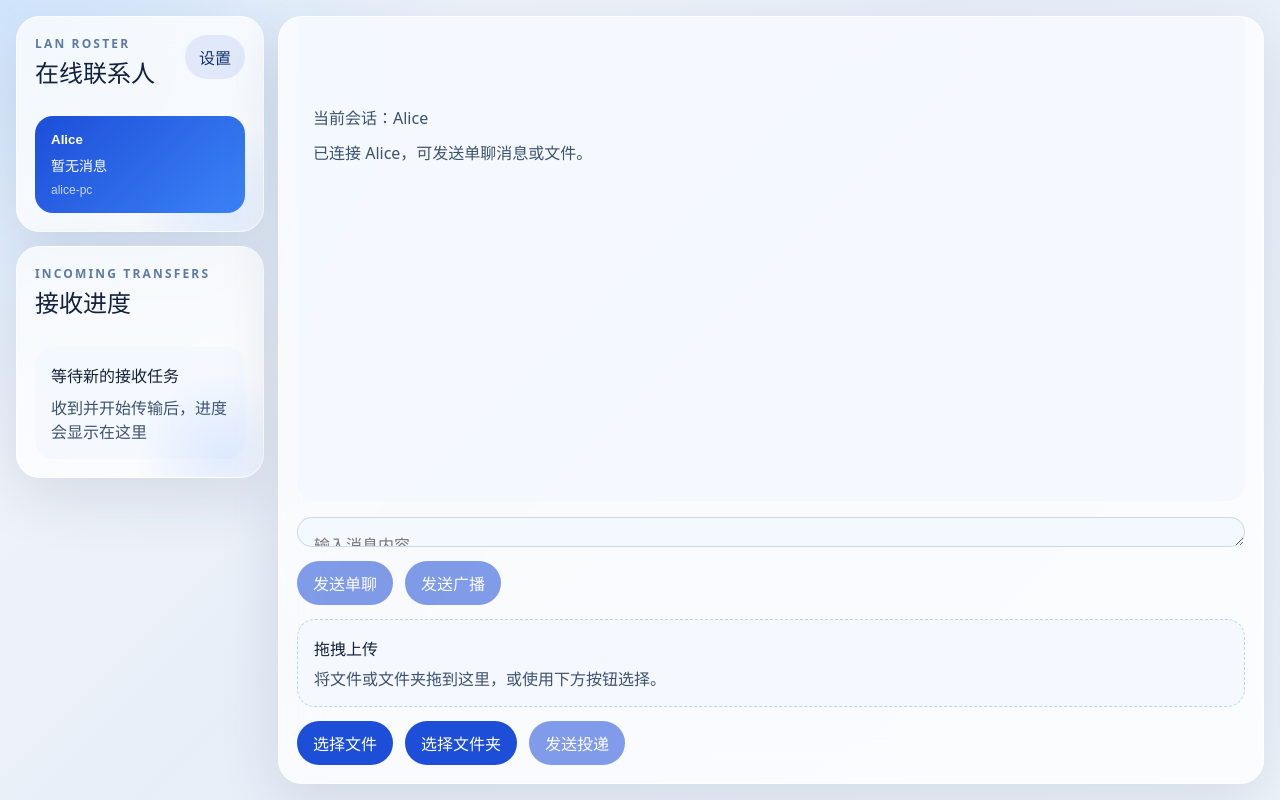
it: shows grouped folders and standalone files in the pending delivery preview
(page scrolled)
Expected: the text "当前会话：Alice" is shown, [313,107,428,129]
What coordinates should you click on to do the following:
click the button "选择文件"
I would click on:
 (345, 743)
Its box is [297,721,393,765].
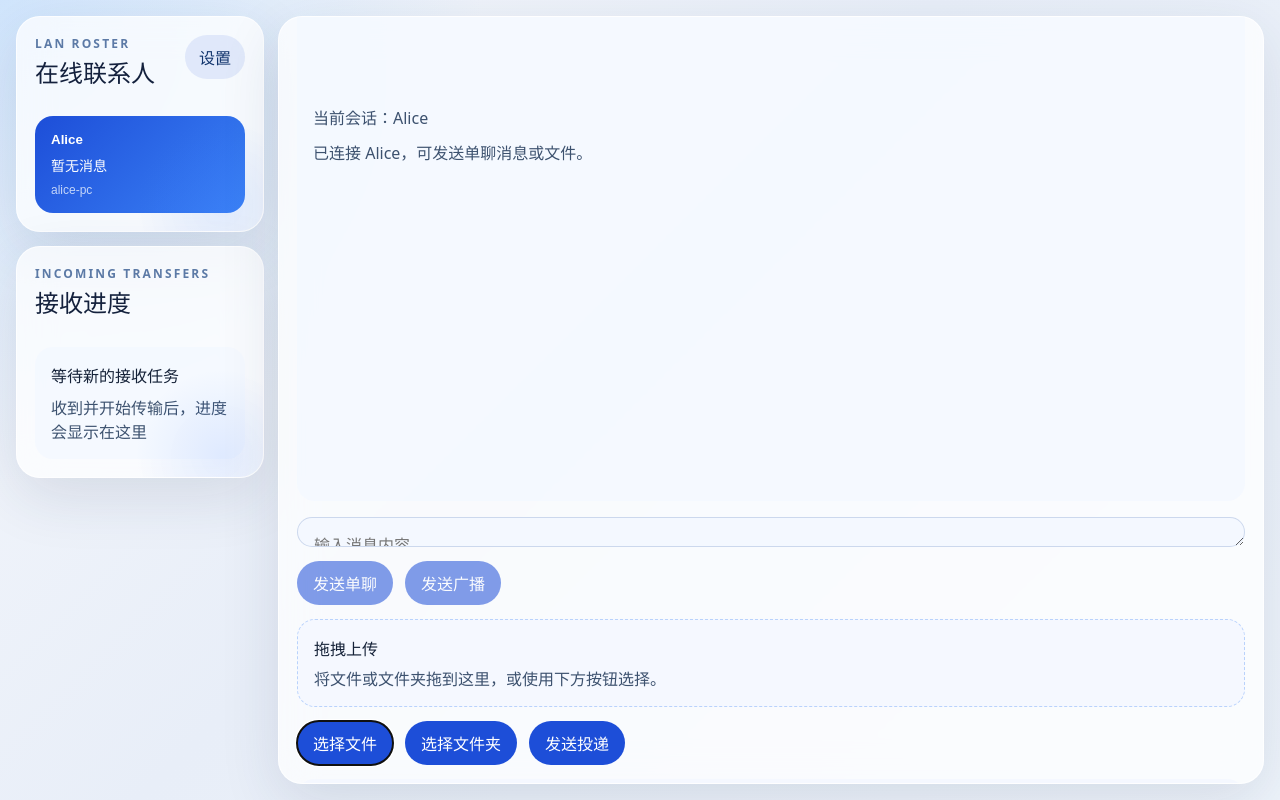
What coordinates should you click on to do the following:
click the button "选择文件夹"
I would click on:
 (461, 743)
Its box is [405,721,517,765].
(page scrolled)
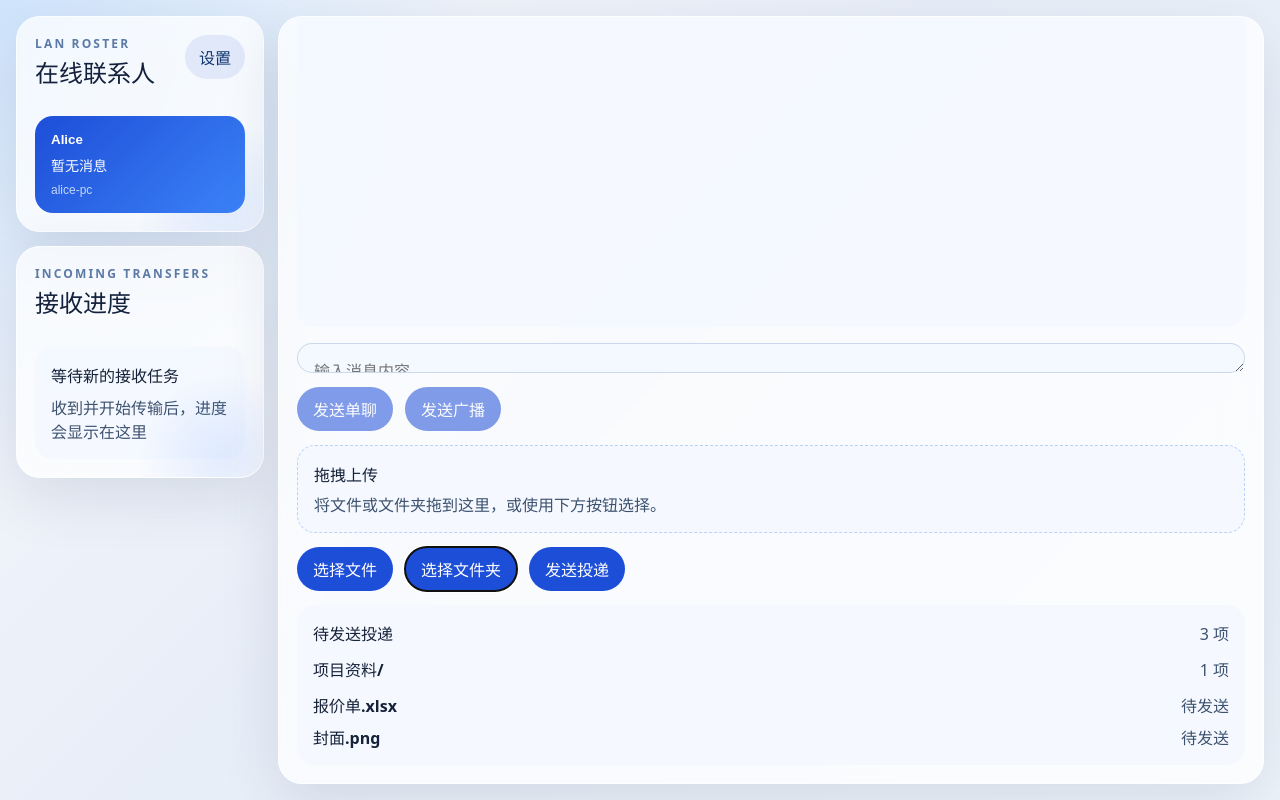
Now the text "项目资料/" is shown, box [313,657,384,681]
Now the text "报价单.xlsx" is shown, box [313,693,397,717]
Now the text "封面.png" is shown, box [313,725,380,749]
